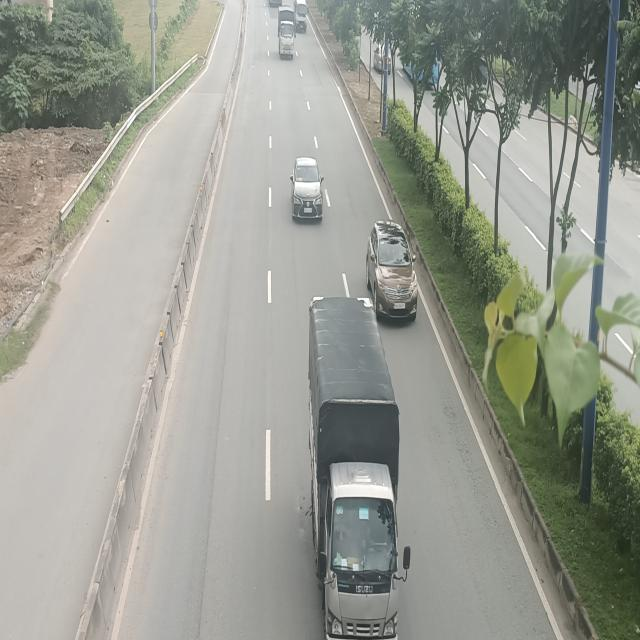car: (368, 222, 421, 326), (289, 160, 322, 225)
truck: (308, 292, 411, 638), (278, 7, 296, 61)
